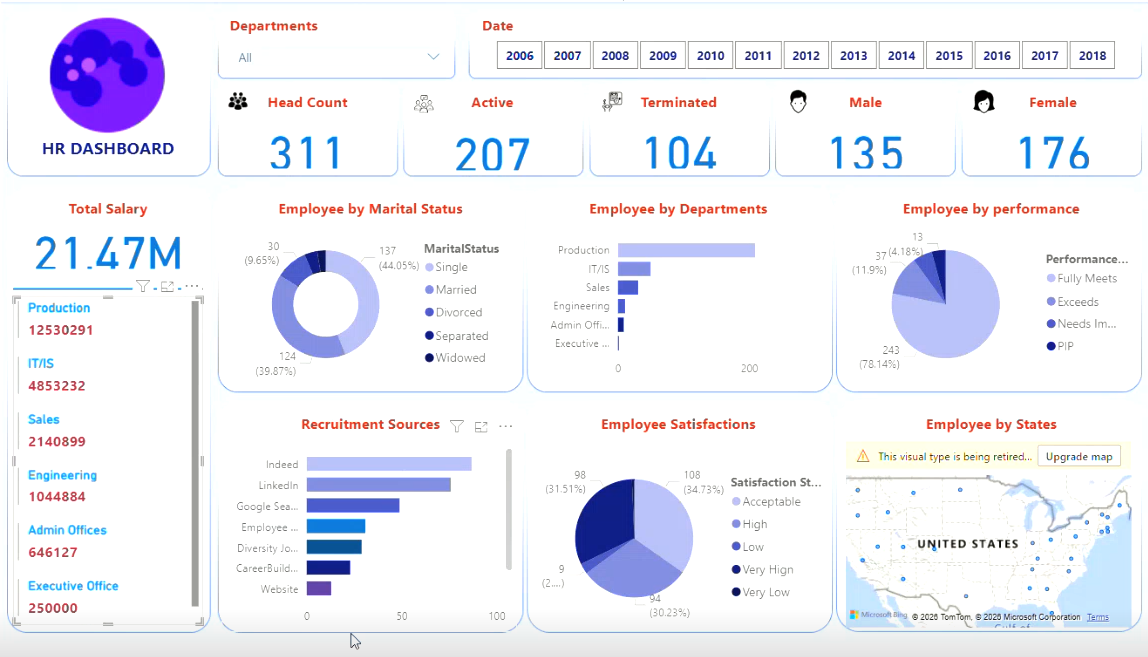

Layout of this report page (visuals, bound fields, positions):
{"tool":"powerbi","page":{"name":"Page 1","canvas":[1280,720],"ordinal":0},"visuals":[{"type":"image","box":[20.7,15.9,203.6,127.2],"z":0},{"type":"textbox","box":[20.7,143.2,203.6,41.4],"z":1000},{"type":"textbox","box":[273.3,0,205,40],"z":2000},{"type":"textbox","box":[529.1,15.1,134.2,35.9],"z":3000},{"type":"slicer","fields":{"Values":["HRData.Department"]},"box":[243.8,34,264.6,54.8],"z":4000},{"type":"slicer","fields":{"Values":["HRData.Hiring Year"]},"box":[508.4,39.7,754,45.4],"z":5000},{"type":"textbox","box":[300.6,90.7,119.3,27],"z":6000},{"type":"textbox","box":[1116.7,86.7,93.3,31.7],"z":7000},{"type":"textbox","box":[453.3,85,186.7,38.3],"z":8000},{"type":"textbox","box":[695,90,111.7,31.7],"z":9000},{"type":"textbox","box":[906.6,84.3,112.9,31.8],"z":10000},{"type":"textbox","box":[266.7,116.7,153.3,68.3],"z":11000},{"type":"textbox","box":[288.3,206.7,245,36.7],"z":12000},{"type":"textbox","box":[605,208.3,291.7,35],"z":13000},{"type":"textbox","box":[986.7,211.7,223.3,31.7],"z":14000},{"type":"textbox","box":[640,438.3,188.3,38.3],"z":15000},{"type":"textbox","box":[21,532,188,150],"z":16000},{"type":"textbox","box":[316.7,438.3,190,36.7],"z":17000},{"type":"textbox","box":[986.7,440,186.7,38.3],"z":18000},{"type":"textbox","box":[453.3,116.7,135,76.7],"z":19000},{"type":"textbox","box":[683.3,120,123.3,75],"z":20000},{"type":"textbox","box":[906.7,120,113.3,71.7],"z":21000},{"type":"textbox","box":[1116.7,118.3,93.3,78.3],"z":22000},{"type":"textbox","box":[987,258,223,151],"z":23000},{"type":"image","box":[256.1,92.3,55.7,31.8],"z":24000},{"type":"image","box":[439,77.9,55.7,39.8],"z":25000},{"type":"image","box":[655.3,84.3,57.3,39.8],"z":26000},{"type":"image","box":[886,77.9,47.7,44.5],"z":27000},{"type":"image","box":[1067.3,79.5,65.2,39.8],"z":28000},{"type":"textSlicer","box":[655.3,531.3,190.9,151.1],"z":29000},{"type":"donutChart","fields":{"Y":["All Measures.Head counts"],"Category":["HRData.MaritalStatus"]},"box":[243.4,243.4,345.2,195.6],"z":30000},{"type":"barChart","fields":{"Category":["HRData.Department"],"Y":["All Measures.Head counts"]},"box":[588.5,245,332.4,178.1],"z":31000},{"type":"pieChart","fields":{"Y":["All Measures.Head counts"],"Category":["HRData.PerformanceScore"]},"box":[941.6,243.4,321.3,178.1],"z":32000},{"type":"barChart","fields":{"Y":["All Measures.Head counts"],"Category":["HRData.RecruitmentSource"]},"box":[245,478.8,343.6,216.3],"z":33000},{"type":"pieChart","fields":{"Y":["All Measures.Head counts"],"Series":["HRData.Satisfaction Status"]},"box":[599.7,478.8,321.3,216.3],"z":34000},{"type":"pieChart","fields":{"Y":["All Measures.Head counts"],"Category":["HRData.PerformanceScore"]},"box":[951.6,253.4,321.3,178.1],"z":35000},{"type":"filledMap","fields":{"Category":["HRData.State"]},"box":[941.6,478.8,321.3,216.3],"z":36000},{"type":"textbox","box":[31.8,219.5,192.5,33.4],"z":37000},{"type":"shape","box":[20.7,316.5,192.5,15.9],"z":38000},{"type":"card","fields":{"Values":["All Measures.Total Salary"]},"box":[20.7,254.5,224.3,62],"z":39000},{"type":"card","fields":{"Values":["All Measures.Head counts"]},"box":[260.9,128.8,149.5,57.3],"z":40000},{"type":"card","fields":{"Values":["All Measures.Female"]},"box":[1080,127.2,149.5,57.3],"z":41000},{"type":"card","fields":{"Values":["All Measures.Male"]},"box":[895.5,128.8,149.5,57.3],"z":42000},{"type":"card","fields":{"Values":["All Measures.Terminated"]},"box":[680.8,122.5,149.5,57.3],"z":43000},{"type":"card","fields":{"Values":["All Measures.Active"]},"box":[472.4,124.1,149.5,57.3],"z":44000},{"type":"multiRowCard","fields":{"Values":["HRData.Department","All Measures.Total Salary"]},"box":[20.7,332.4,192.5,362.7],"z":45000}]}

Visuals, with their boxes in screenshot pixels (x1, y1, x2, y2), scaled from the page's 1280x720 canvas onto the 1148x657 screenshot:
image: box(19, 15, 201, 131)
textbox: box(19, 131, 201, 168)
textbox: box(245, 0, 429, 36)
textbox: box(475, 14, 595, 47)
slicer - HRData.Department: box(219, 31, 456, 81)
slicer - HRData.Hiring Year: box(456, 36, 1132, 78)
textbox: box(270, 83, 377, 107)
textbox: box(1002, 79, 1085, 108)
textbox: box(407, 78, 574, 113)
textbox: box(623, 82, 724, 111)
textbox: box(813, 77, 914, 106)
textbox: box(239, 106, 377, 169)
textbox: box(259, 189, 478, 222)
textbox: box(543, 190, 804, 222)
textbox: box(885, 193, 1085, 222)
textbox: box(574, 400, 743, 435)
textbox: box(19, 485, 187, 622)
textbox: box(284, 400, 454, 433)
textbox: box(885, 402, 1052, 436)
textbox: box(407, 106, 528, 176)
textbox: box(613, 110, 723, 178)
textbox: box(813, 110, 915, 175)
textbox: box(1002, 108, 1085, 179)
textbox: box(885, 235, 1085, 373)
image: box(230, 84, 280, 113)
image: box(394, 71, 444, 107)
image: box(588, 77, 639, 113)
image: box(795, 71, 837, 112)
image: box(957, 73, 1016, 109)
textSlicer: box(588, 485, 759, 623)
donutChart - All Measures.Head counts x HRData.MaritalStatus: box(218, 222, 528, 401)
barChart - HRData.Department x All Measures.Head counts: box(528, 224, 826, 386)
pieChart - All Measures.Head counts x HRData.PerformanceScore: box(844, 222, 1133, 385)
barChart - All Measures.Head counts x HRData.RecruitmentSource: box(220, 437, 528, 634)
pieChart - All Measures.Head counts x HRData.Satisfaction Status: box(538, 437, 826, 634)
pieChart - All Measures.Head counts x HRData.PerformanceScore: box(853, 231, 1142, 394)
filledMap - HRData.State: box(844, 437, 1133, 634)
textbox: box(29, 200, 201, 231)
shape: box(19, 289, 191, 303)
card - All Measures.Total Salary: box(19, 232, 220, 289)
card - All Measures.Head counts: box(234, 118, 368, 170)
card - All Measures.Female: box(969, 116, 1103, 168)
card - All Measures.Male: box(803, 118, 937, 170)
card - All Measures.Terminated: box(611, 112, 745, 164)
card - All Measures.Active: box(424, 113, 558, 166)
multiRowCard - HRData.Department x All Measures.Total Salary: box(19, 303, 191, 634)
